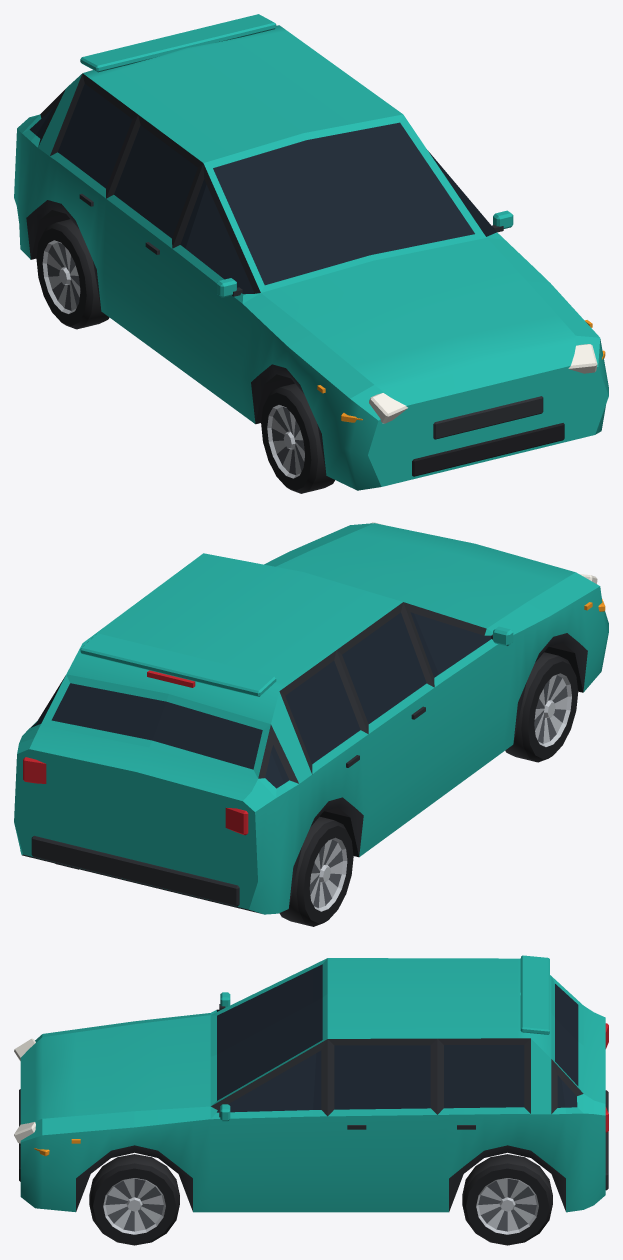
File: hatchback_car.glb
3 views of the same model, one above another, from view 1: azimuth 30°, elevation 25°; view 2: azimuth 150°, elevation 25°; view 3: azimuth 270°, elevation 25° (orthographic). The views are drawn at different scales.
Visible parts, largest first — view 1: hatchback_body, wheel_FL, wheel_RL; view 2: hatchback_body, wheel_RL, wheel_FL; view 3: hatchback_body, wheel_RR, wheel_FR.
Part boxes in pixels (left/top/right/bottom): hatchback_body: left=14, top=14, right=608, bottom=490; wheel_FL: left=261, top=383, right=334, bottom=493; wheel_RL: left=36, top=219, right=109, bottom=329; hatchback_body: left=14, top=522, right=608, bottom=914; wheel_RL: left=279, top=816, right=353, bottom=926; wheel_FL: left=505, top=652, right=578, bottom=762; hatchback_body: left=14, top=955, right=608, bottom=1212; wheel_RR: left=462, top=1154, right=552, bottom=1245; wheel_FR: left=89, top=1154, right=179, bottom=1245.
Bounding box in the file's own units: 1.92 × 1.52 × 4.07.
